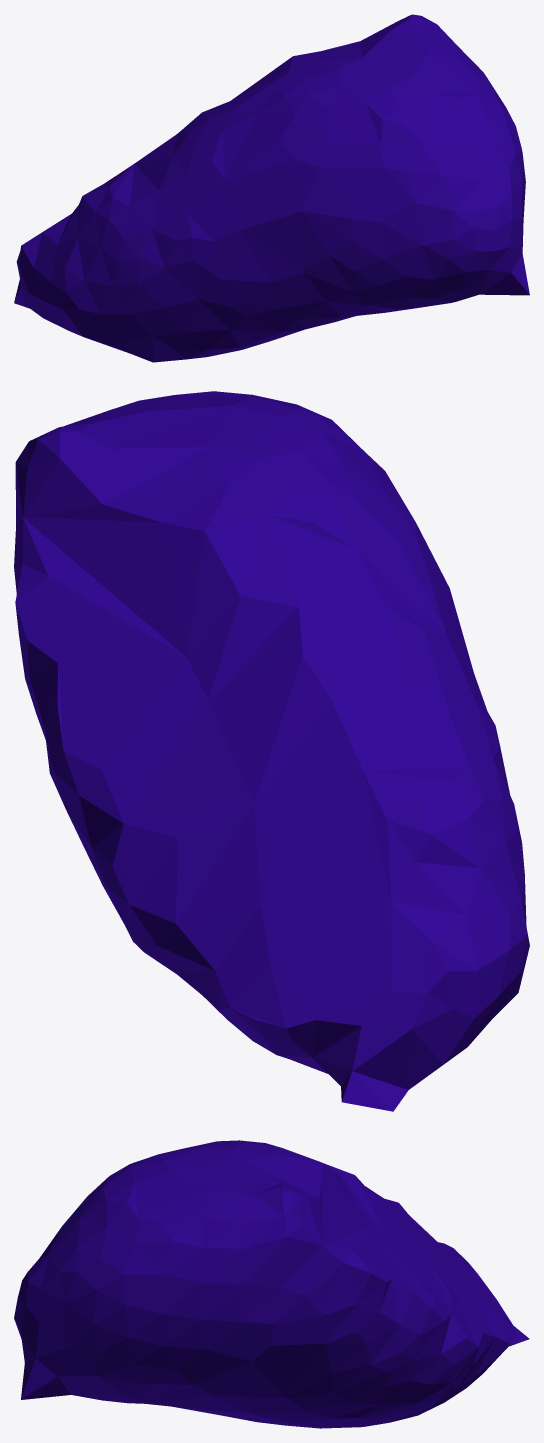
The model's file is Model_179_RH__Nucleus_of_the_lateral_olfactry_tract_(LOT).obj.
3 views of the same model, one above another, from view 1: azimuth 30°, elevation 25°; view 2: azimuth 150°, elevation 25°; view 3: azimuth 270°, elevation 25° (orthographic). The views are drawn at different scales.
Size of the model in its own units: 1.05 by 0.8256 by 1.16.
